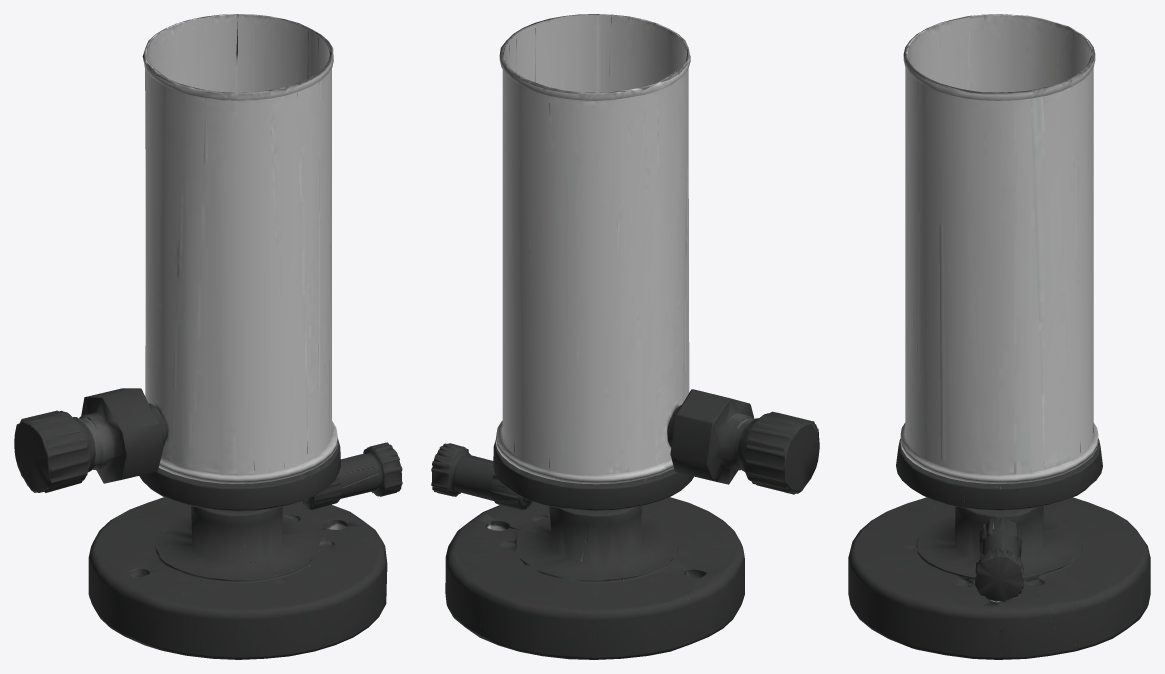
File: bunsen-burner.glb
The picture shows the model from 3 angles, left to right: view 1: azimuth 30°, elevation 25°; view 2: azimuth 150°, elevation 25°; view 3: azimuth 270°, elevation 25°; orthographic projection.
Size of the model in its own units: 0.6562 by 0.9512 by 0.4781.
Materials: 1 (1 with a texture image).
